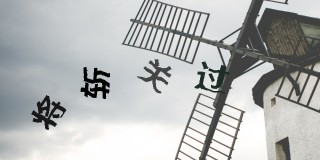关: (137, 58, 172, 95)
斩: (31, 95, 66, 131), (79, 66, 111, 99)
过: (193, 61, 230, 94)
